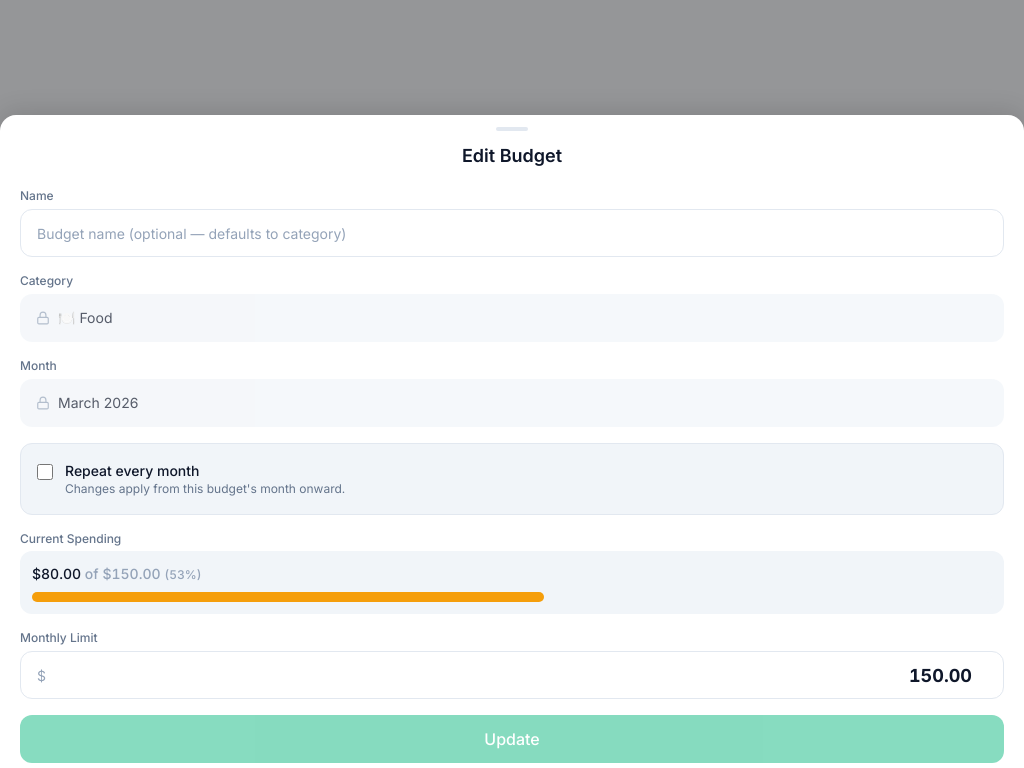
EditBudgetSheet › Update button is enabled when amount changed to valid value
Replace the text in the number field with test id "edit-amount-input" with "200" at (526, 675), box top-left (50, 652), bottom-right (1003, 698)
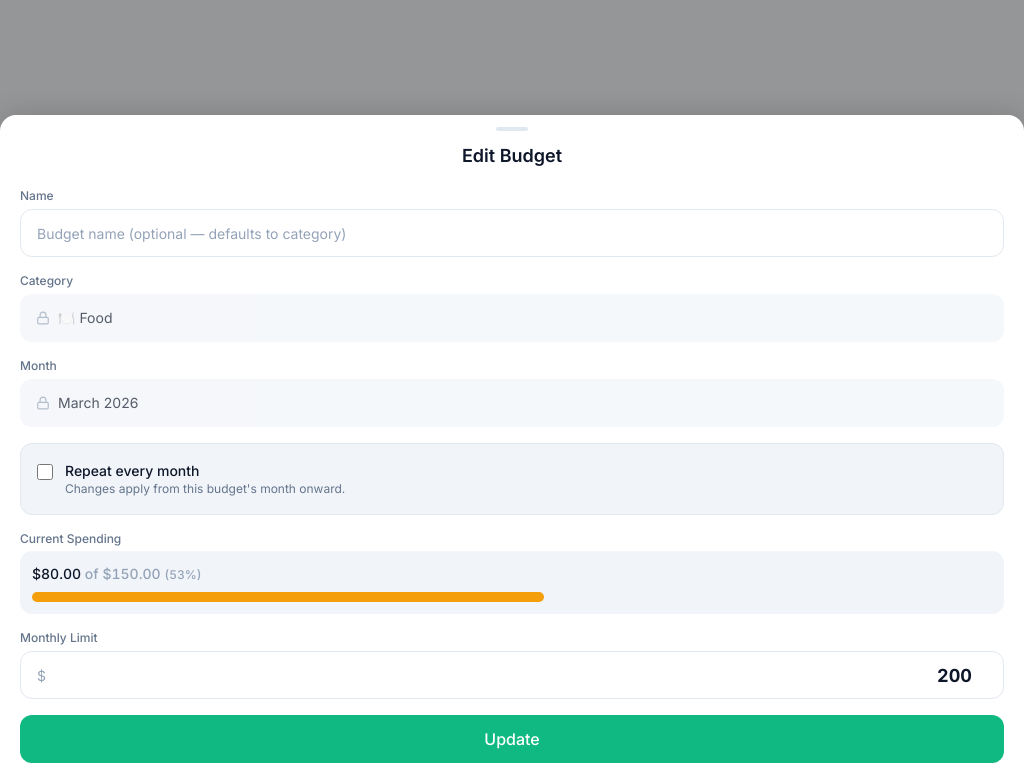
Check: the button with test id "update-btn" is enabled, box top-left (20, 715), bottom-right (1004, 763)
